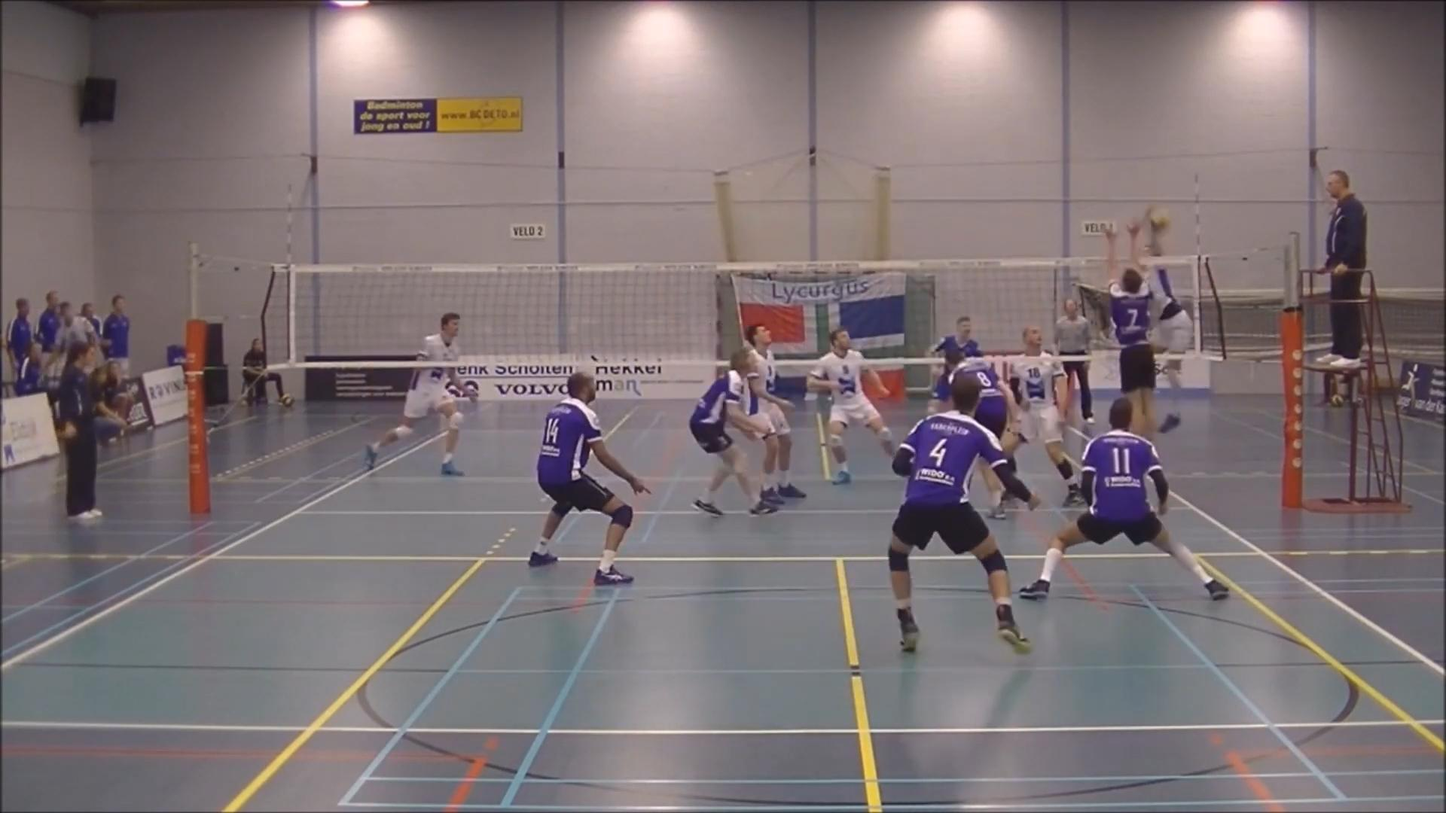Attack: (1133, 203, 1208, 440)
Block: (1075, 224, 1185, 445)
Player: (888, 376, 1039, 653), (1020, 398, 1228, 599), (529, 371, 649, 585), (364, 312, 476, 475), (689, 347, 777, 515), (807, 328, 894, 484), (1011, 327, 1083, 506), (744, 325, 805, 502), (935, 359, 1019, 472), (926, 349, 965, 414), (933, 316, 982, 357)
ball: (1138, 205, 1176, 237)
